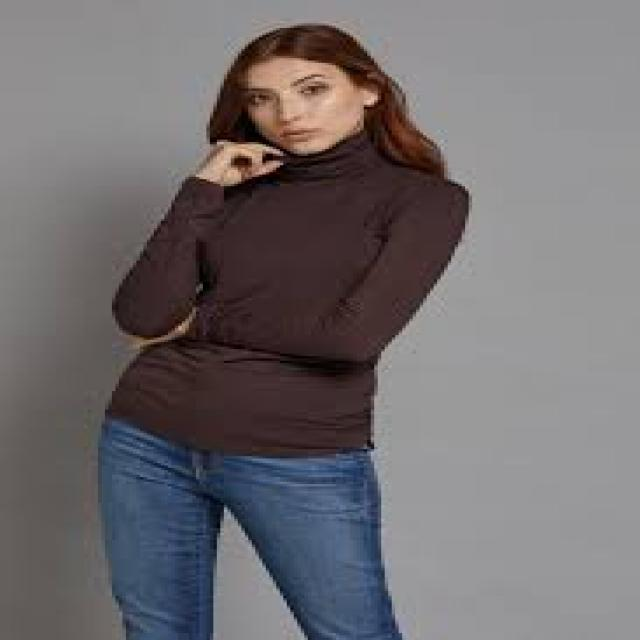plain: (106, 147, 477, 460)
